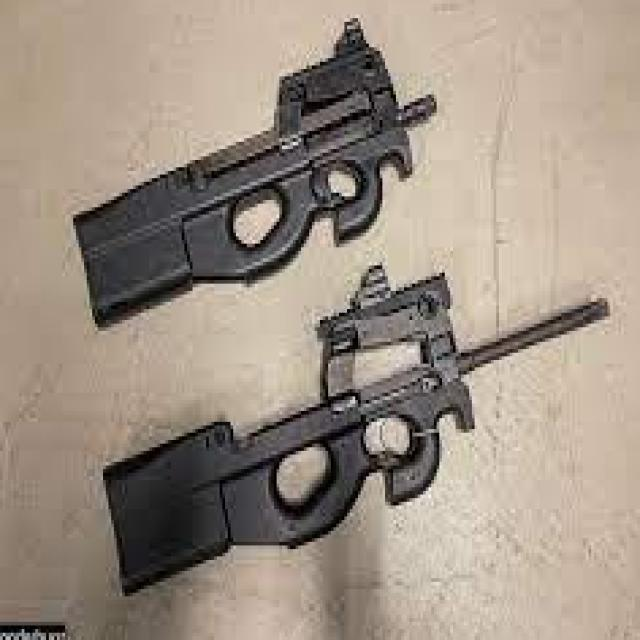Gun: (76, 80, 496, 362)
